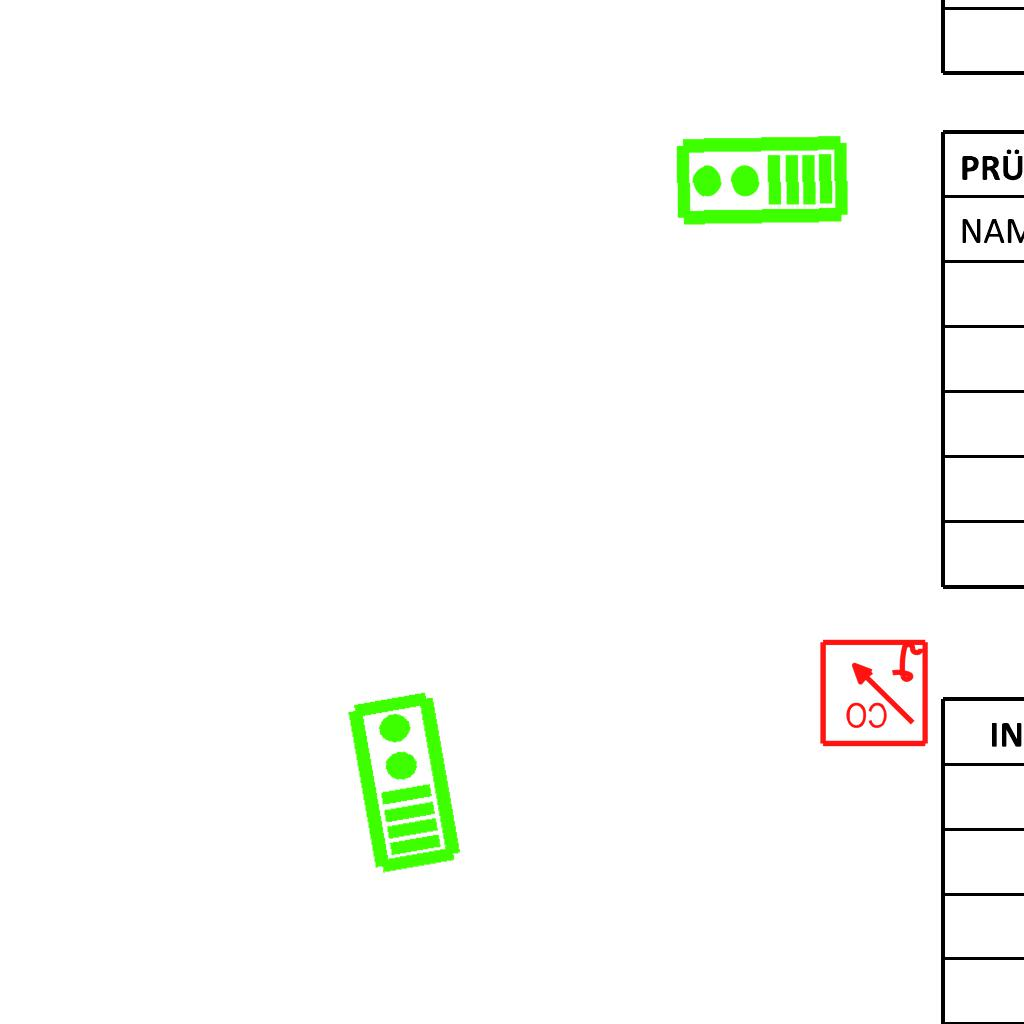Gegensprechanlage_mit_Video: (340, 687, 465, 877), (672, 132, 851, 232)
ROA_Rauchmelder_optisch_mit_Signalgeber_(Sockelsirene): (817, 635, 930, 748)
